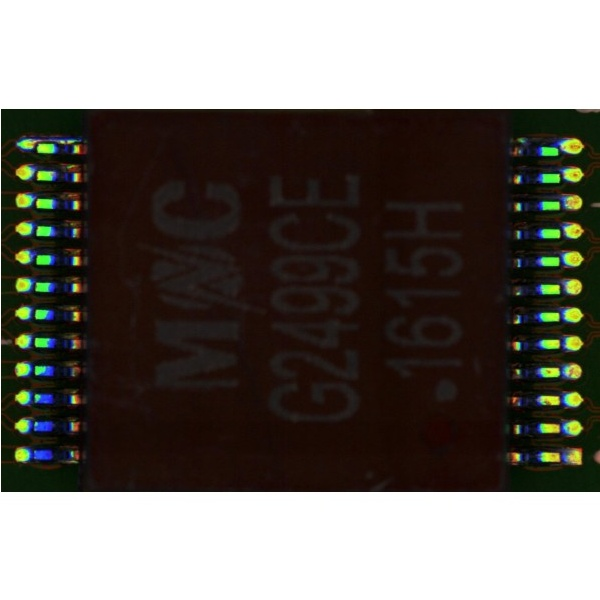Bad_qiaojiao: (40, 138, 81, 143)
